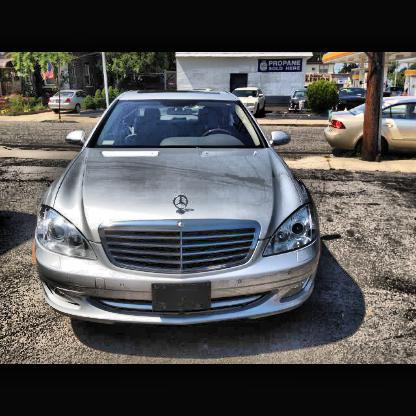Mercedes-Benz S-Class Sedan 2012: (33, 90, 322, 325)
